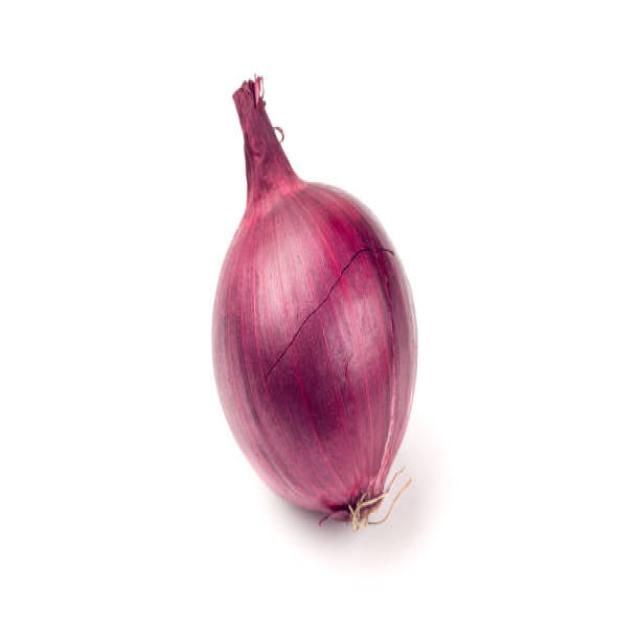onion: (209, 161, 417, 535)
